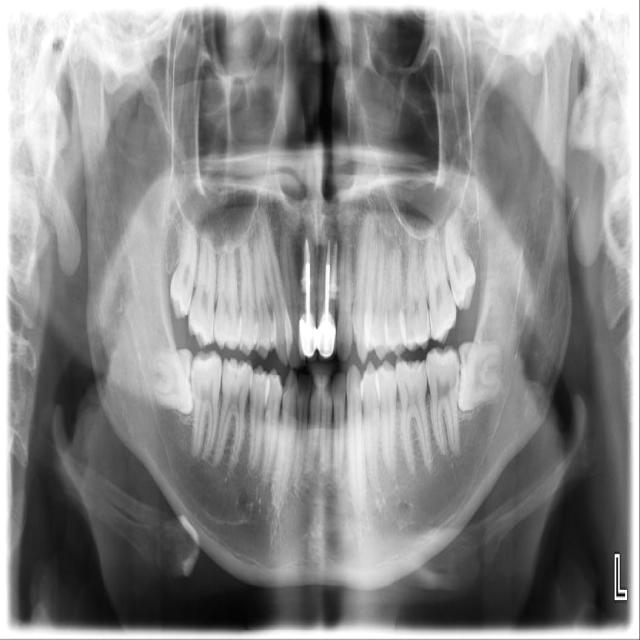Root Canal Treatment: (326, 238, 331, 265), (305, 244, 308, 269)
impacted tooth: (144, 349, 193, 417), (459, 340, 503, 411)
